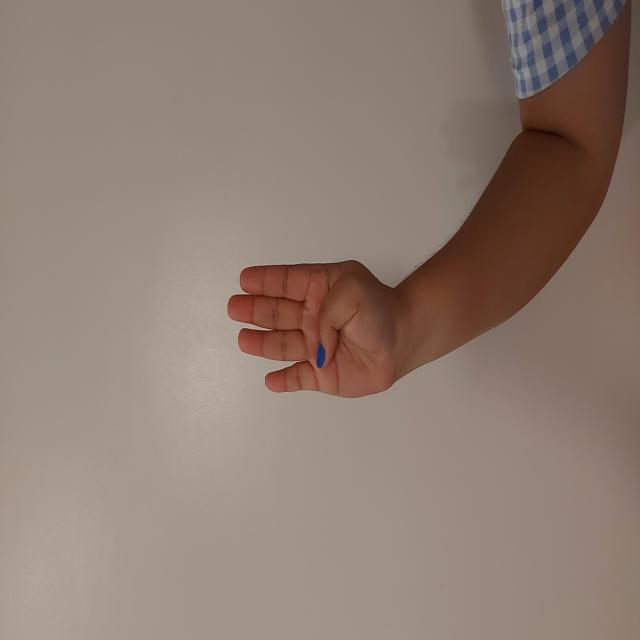B: (241, 226, 381, 398)
